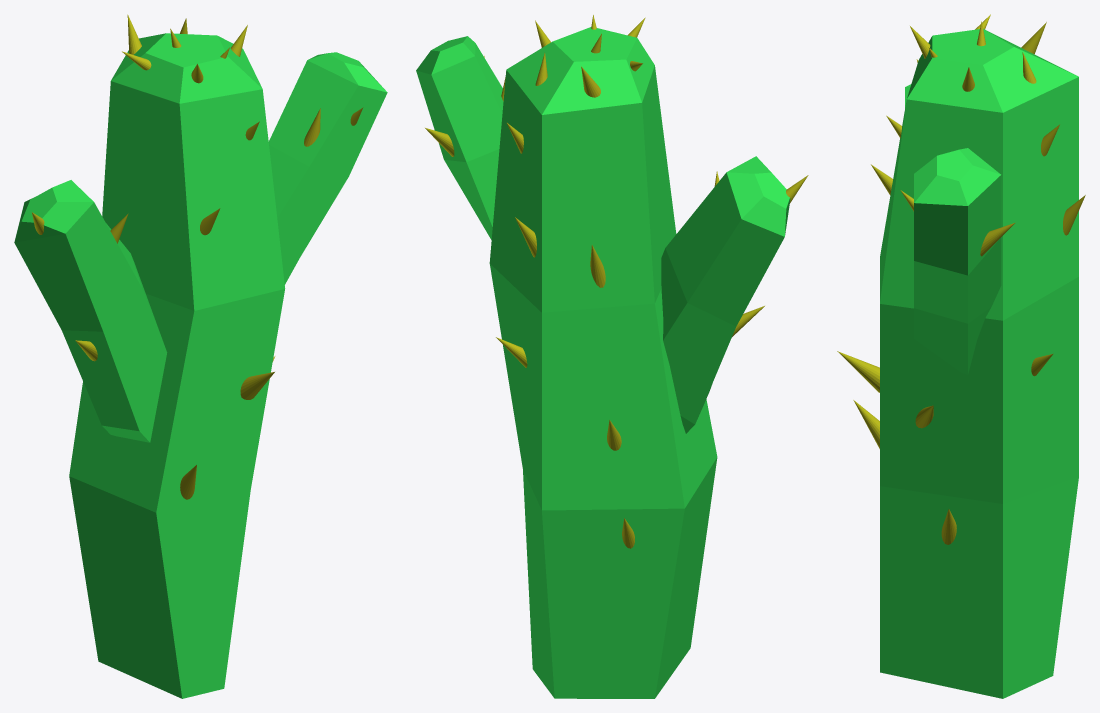
The model's file is kaktus_Z_KOLCAMI_.fbx.
3 views of the same model, side by side, from view 1: azimuth 30°, elevation 25°; view 2: azimuth 150°, elevation 25°; view 3: azimuth 270°, elevation 25° (orthographic). The views are drawn at different scales.
Visible parts, largest first — view 1: Walec; view 2: Walec; view 3: Walec.
Part boxes in pixels (x1,y1,x2,y2): Walec: (14, 14, 387, 698); Walec: (416, 15, 808, 698); Walec: (837, 14, 1085, 698).
Bounding box in the file's own units: 389 × 650 × 226.
